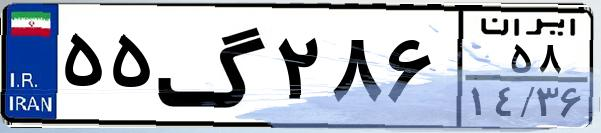1: (470, 70, 495, 125)
2: (270, 28, 330, 110)
3: (535, 70, 560, 125)
4: (495, 70, 520, 125)
5: (57, 26, 110, 100), (110, 28, 156, 98), (508, 27, 537, 80)
6: (385, 28, 445, 110), (560, 70, 590, 125)
8: (330, 28, 385, 110), (537, 27, 568, 80)
گ: (156, 12, 270, 120)
